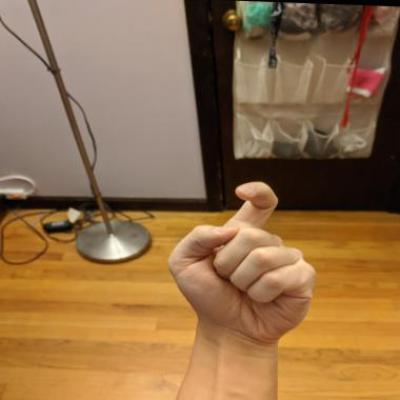hand: (163, 174, 322, 345)
